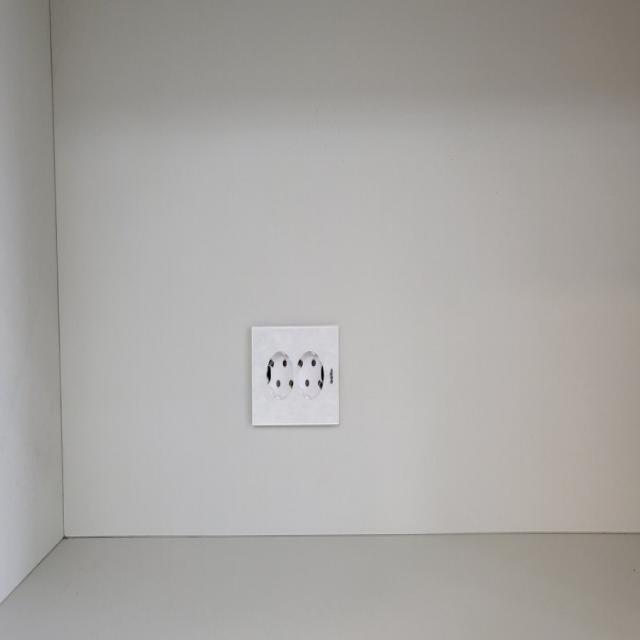typeb: (230, 318, 353, 441)
